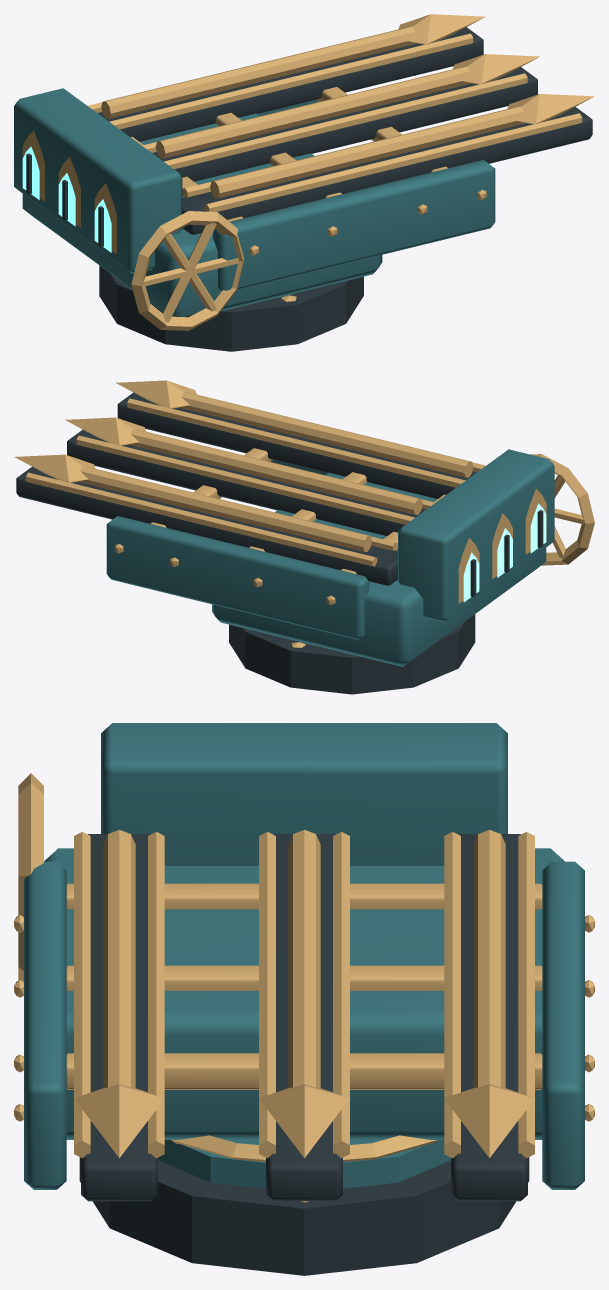
The model's file is evolution-harpoon-trident.glb.
3 views of the same model, one above another, from view 1: azimuth 30°, elevation 25°; view 2: azimuth 150°, elevation 25°; view 3: azimuth 270°, elevation 25° (orthographic). The views are drawn at different scales.
Parts seen in each view (by area): view 1: evolution-harpoon-trident / Paint | armory deep Hanseatic en, evolution-harpoon-trident / Brass | armory machined champagn, evolution-harpoon-trident / Structure | armory dark pressure, Runtime flywheel Z | evolution-harpoon-trident, evolution-harpoon-trident / Lamp | armory pale electric mint; view 2: evolution-harpoon-trident / Paint | armory deep Hanseatic en, evolution-harpoon-trident / Brass | armory machined champagn, evolution-harpoon-trident / Structure | armory dark pressure, Runtime flywheel Z | evolution-harpoon-trident, evolution-harpoon-trident / Lamp | armory pale electric mint; view 3: evolution-harpoon-trident / Paint | armory deep Hanseatic en, evolution-harpoon-trident / Brass | armory machined champagn, evolution-harpoon-trident / Structure | armory dark pressure, Runtime flywheel Z | evolution-harpoon-trident.
Part boxes in pixels (x1,y1,x2,y2): evolution-harpoon-trident / Paint | armory deep Hanseatic en: (14,88,495,317); evolution-harpoon-trident / Brass | armory machined champagn: (22,14,594,301); evolution-harpoon-trident / Structure | armory dark pressure: (26,27,592,351); Runtime flywheel Z | evolution-harpoon-trident: (131,211,244,330); evolution-harpoon-trident / Lamp | armory pale electric mint: (22,146,111,252); evolution-harpoon-trident / Paint | armory deep Hanseatic en: (106,449,554,666); evolution-harpoon-trident / Brass | armory machined champagn: (14,380,546,647); evolution-harpoon-trident / Structure | armory dark pressure: (16,392,543,694); Runtime flywheel Z | evolution-harpoon-trident: (530,454,594,565); evolution-harpoon-trident / Lamp | armory pale electric mint: (463,503,546,602); evolution-harpoon-trident / Paint | armory deep Hanseatic en: (24,723,584,1189); evolution-harpoon-trident / Brass | armory machined champagn: (14,830,594,1202); evolution-harpoon-trident / Structure | armory dark pressure: (79,834,529,1275); Runtime flywheel Z | evolution-harpoon-trident: (18,773,43,981).
Size of the model in its own units: 3.38 by 1.28 by 2.04.
